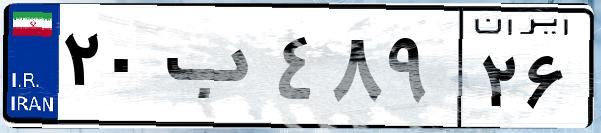0: (110, 28, 158, 98)
2: (57, 26, 110, 100), (475, 38, 525, 113)
4: (270, 28, 330, 110)
6: (525, 38, 570, 115)
8: (330, 28, 385, 110)
9: (385, 28, 445, 110)
ب: (158, 20, 270, 120)
